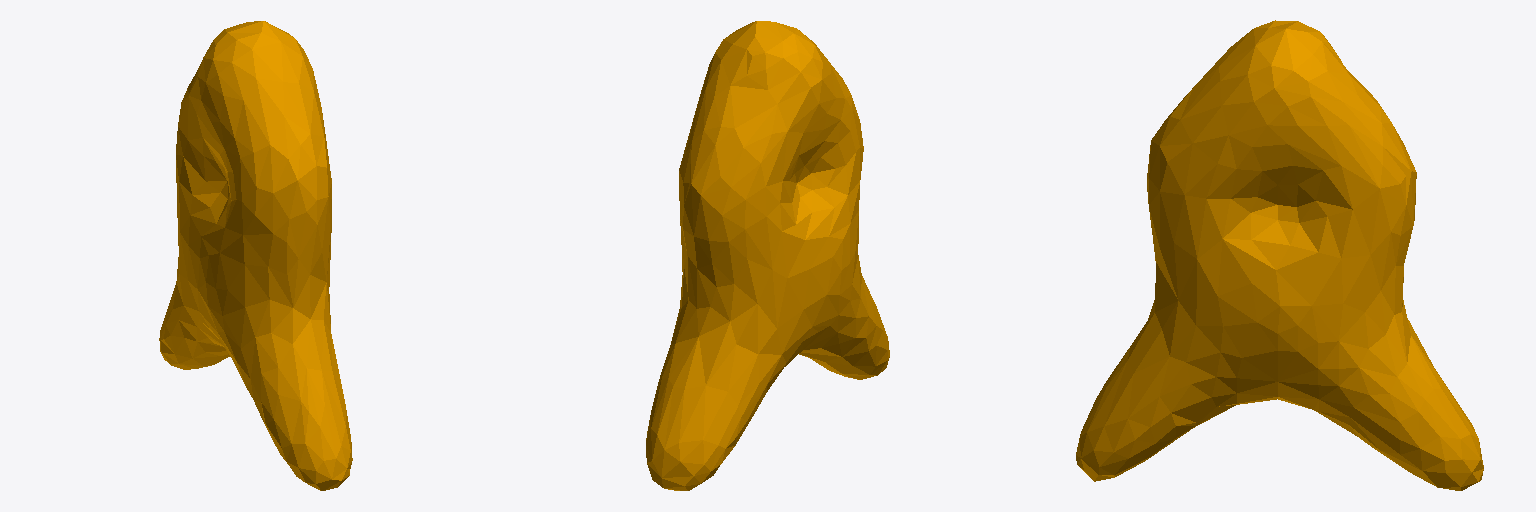
The robot description file, URDF, robot "large_clamp":
<?xml version="1.0"?>
<robot name="large_clamp">
  <link name="base_link">
    <contact>
      <lateral_friction value="1.0"/>
      <rolling_friction value="0.0"/>
      <contact_cfm value="0.0"/>
      <contact_erp value="1.0"/>
    </contact>
    <inertial>
      <mass value="0.0712017154851"/>
      <inertia ixx="1" ixy="0" ixz="0" iyy="1" iyz="0" izz="1"/>
    </inertial>
    <visual>
      <geometry>
        <mesh filename="large_clamp_visual.obj"/>
      </geometry>
    </visual>
    <collision>
      <geometry>
        <mesh filename="large_clamp_collision.obj"/>
      </geometry>
    </collision>
  </link>
</robot>

--- Render facts (derived) ---
The picture shows the robot from 3 angles, left to right: view 1: azimuth 30°, elevation 25°; view 2: azimuth 150°, elevation 25°; view 3: azimuth 270°, elevation 25°; orthographic projection.
Model large_clamp with 1 links and 0 joints (none), rooted at base_link, posed every joint at zero.
Visible links, largest first — view 1: base_link; view 2: base_link; view 3: base_link.
Link boxes in pixels (box(x1,y1,x2,y2)): base_link: box(159, 21, 352, 490); base_link: box(646, 21, 889, 490); base_link: box(1076, 20, 1483, 490).
Size in the robot's own frame: 0.0273 by 0.07 by 0.0869 metres.
Meshes: 1 distinct files referenced, 1 mesh visuals loaded (1 OBJ).